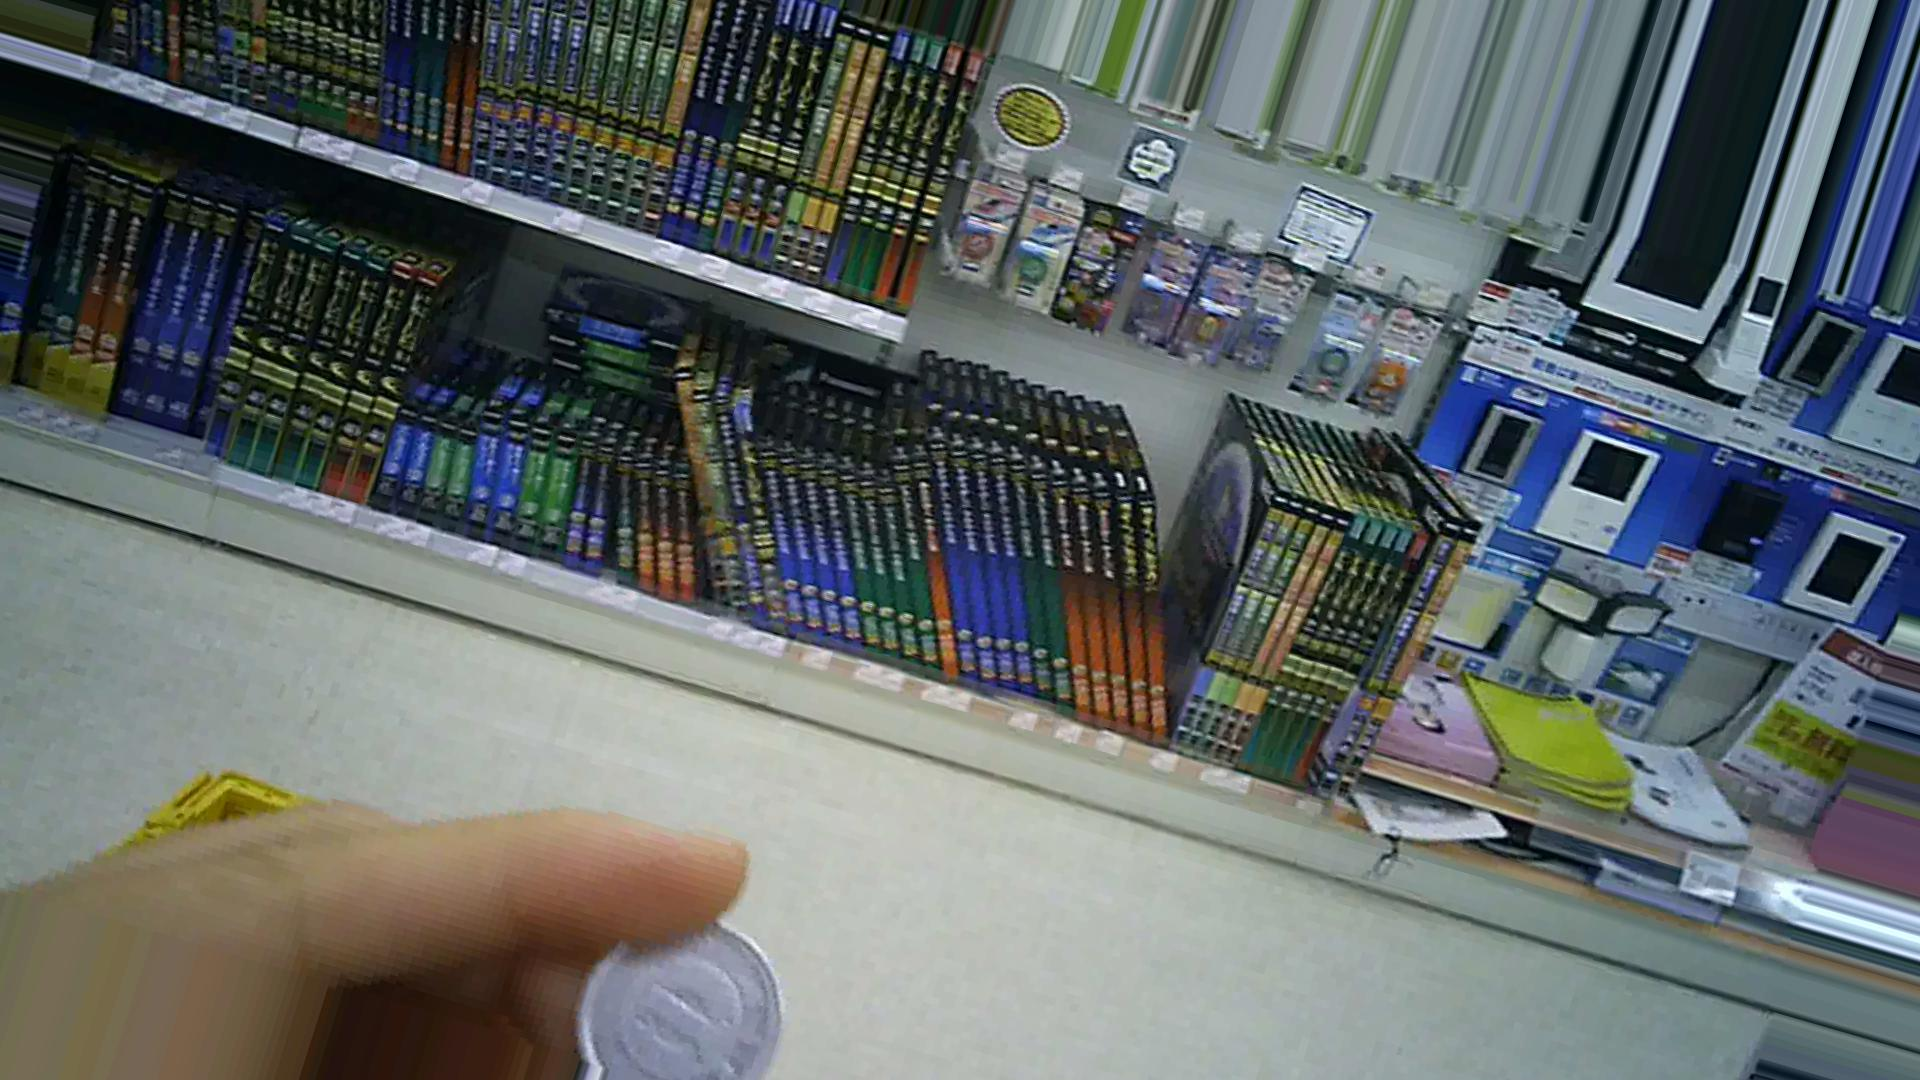1 Yen: (568, 899, 787, 1079)
